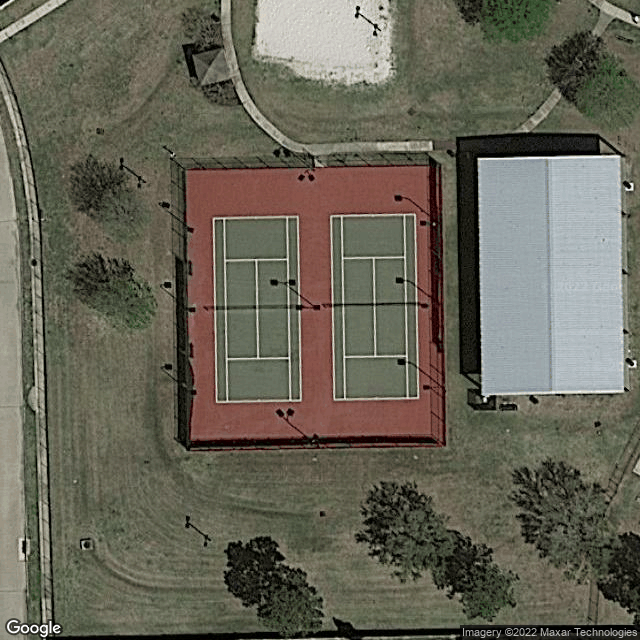Court: (211, 216, 302, 403), (329, 213, 420, 400)
